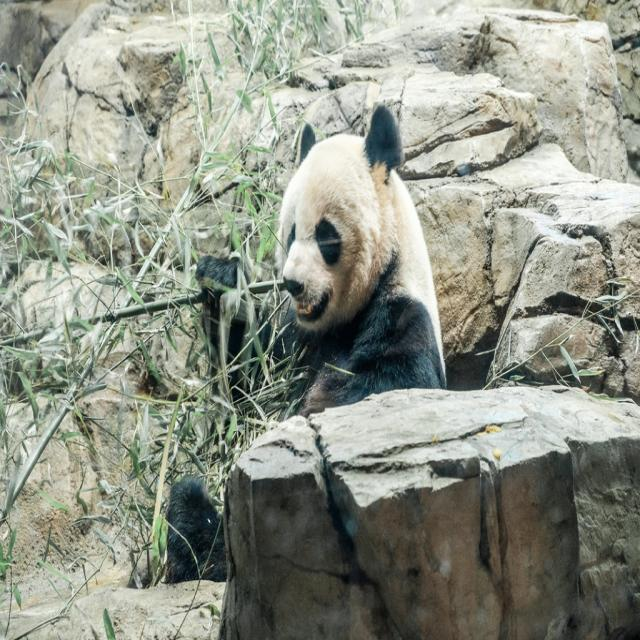panda: (161, 100, 448, 582)
